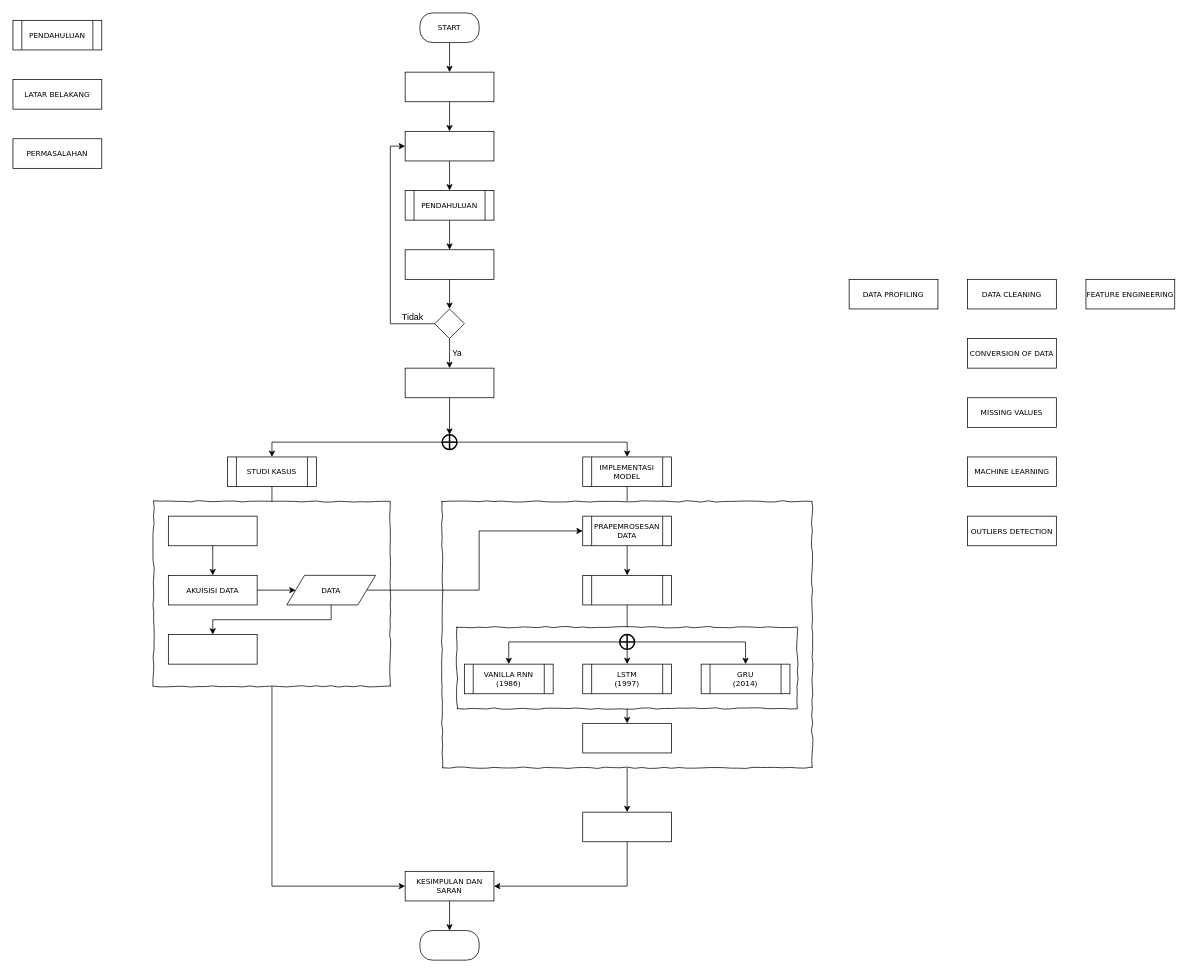
Some shapes in this 1188 by 973 pixel diagram are drawn without their labels. Here are the shapes that lost their labels. From the top down, the centre of each, then its label:
At (449,86): "PENENTUAN TOPIK".
At (449,146): "KAJIAN LITERATUR".
At (449,264): "PENDAHULUAN MEMUASKAN?".
At (449,382): "STUDI LITERATUR".
At (212,530): "LOKASI STUDI KASUS".
At (627,590): "PEMODELAN RNN".
At (212,649): "DESKRIPSI STUDI KASUS".
At (627,738): "EVALUASI MODEL".
At (627,826): "INTERPRETASI MODEL".
At (449,945): "SELESAI".
